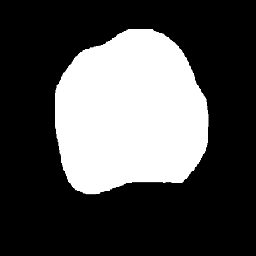mass: (59, 38, 198, 181)
